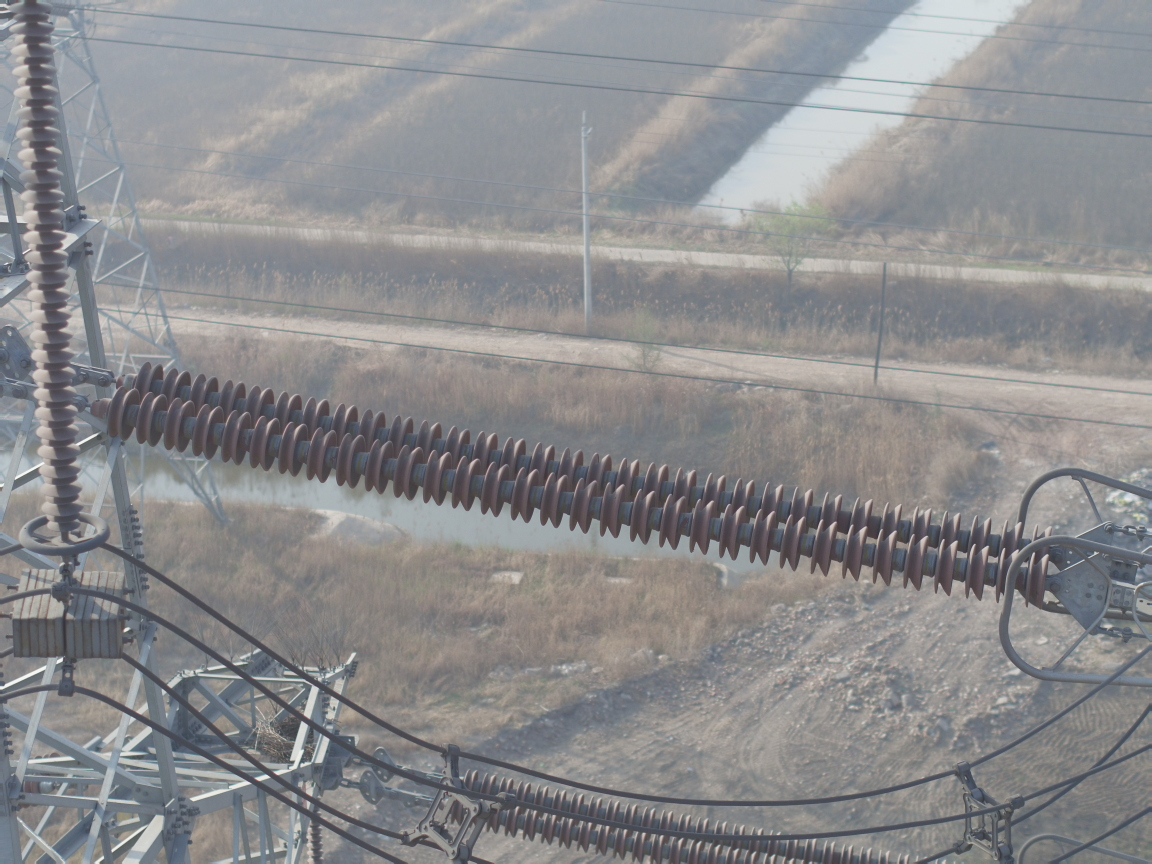insulator: (74, 357, 1086, 610)
